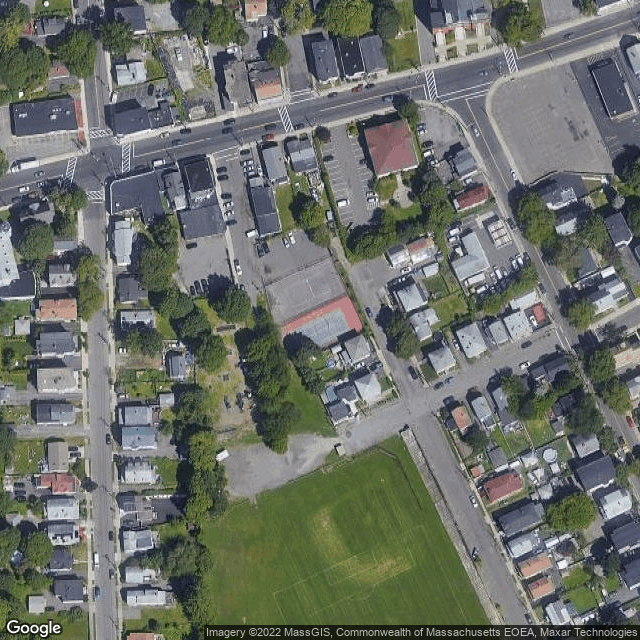Court: (286, 306, 352, 358)
